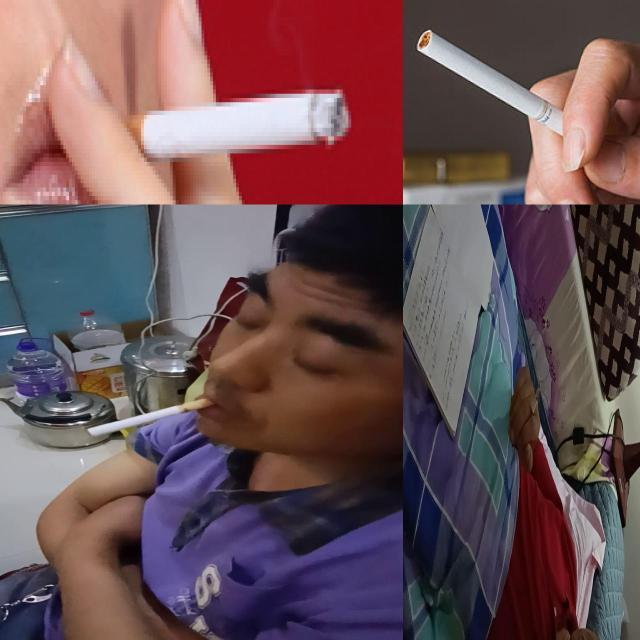smoking: (75, 87, 352, 165), (416, 28, 592, 144), (86, 397, 216, 437), (530, 387, 540, 420)
